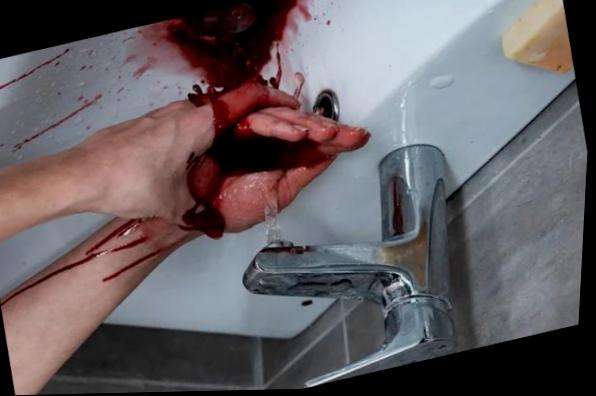Fire: (136, 0, 325, 239), (3, 219, 150, 306), (12, 95, 102, 151), (0, 48, 69, 88), (104, 249, 164, 282)
